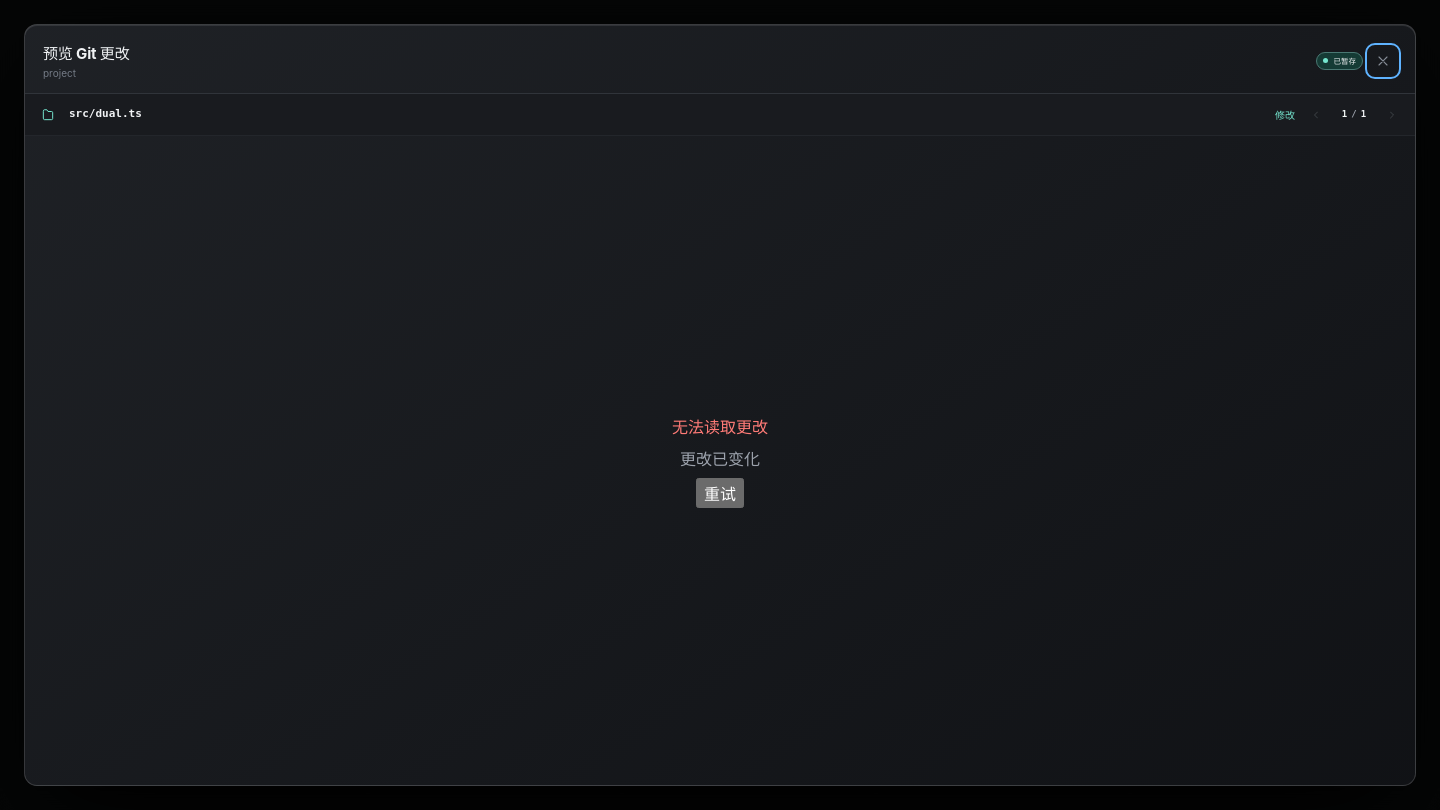
Test case: GitChangePreview › exposes retryable load errors
This screenshot has width=1440, height=810.
Expected: the message shows "更改已变化", [680,448,760,468]
Step 1. Click the button "重试" → (720, 492), box [696,478,744,508]
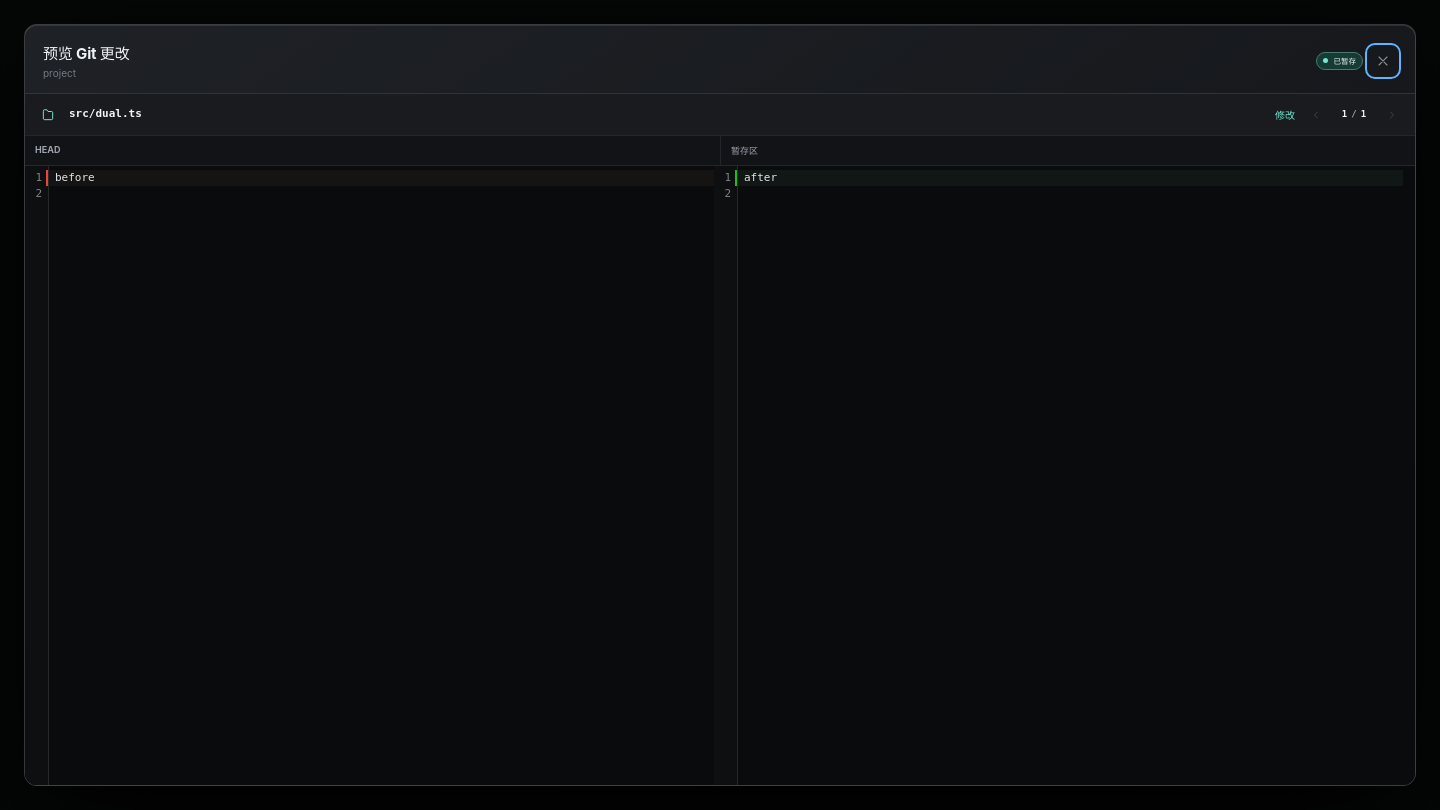
Expected: the text "HEAD" is shown, [35,144,60,155]
